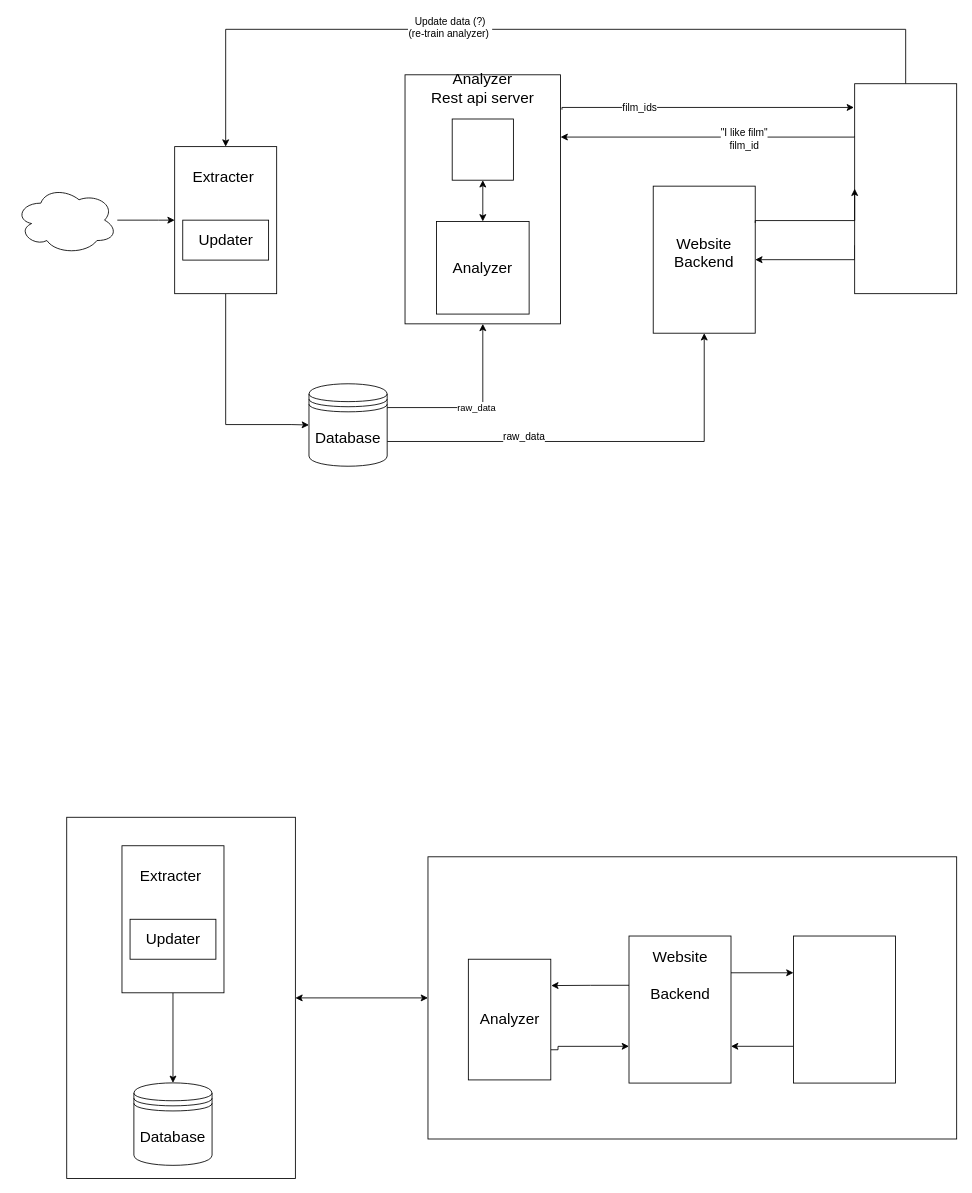
This 972x1193 diagram has some shape labels left out. The centre of each missing label's shape, as x and y in pixels:
Internet: the point at 65,219
Trainer: the point at 482,149
Website: the point at 844,1009
Website Frontend: the point at 905,188
